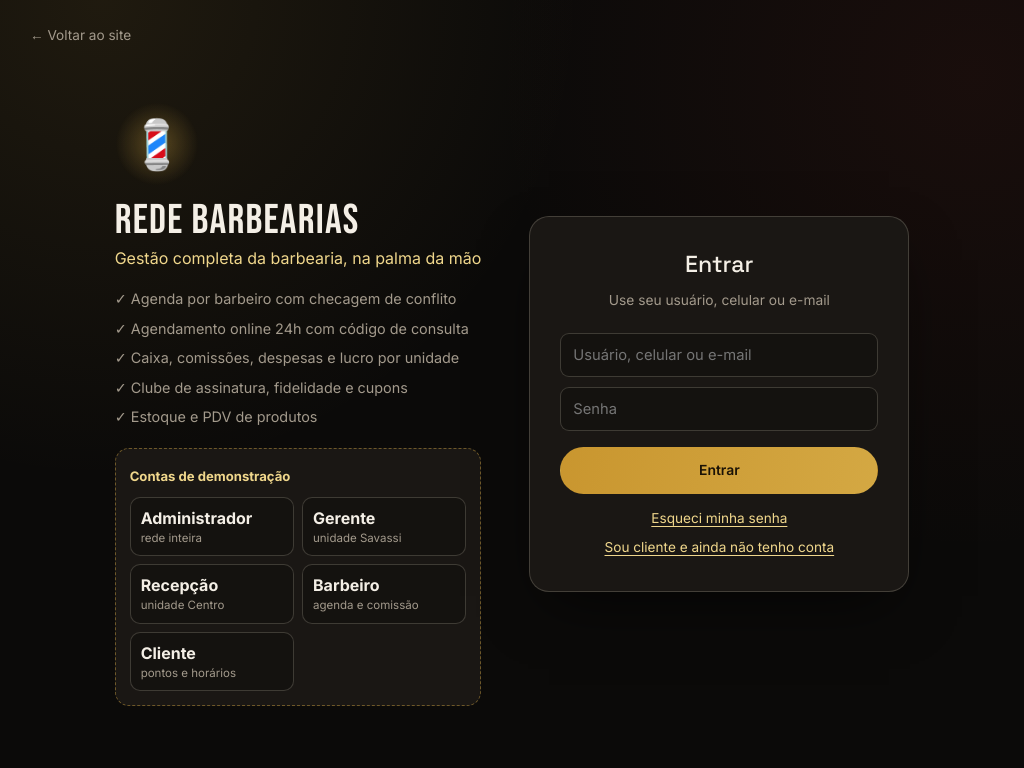
Test: Esqueci minha senha › senhas diferentes não chegam no servidor
The width and height of the screenshot is (1024, 768).
Click the button "Esqueci minha senha": (719,518) x1=651 y1=508 x2=787 y2=529
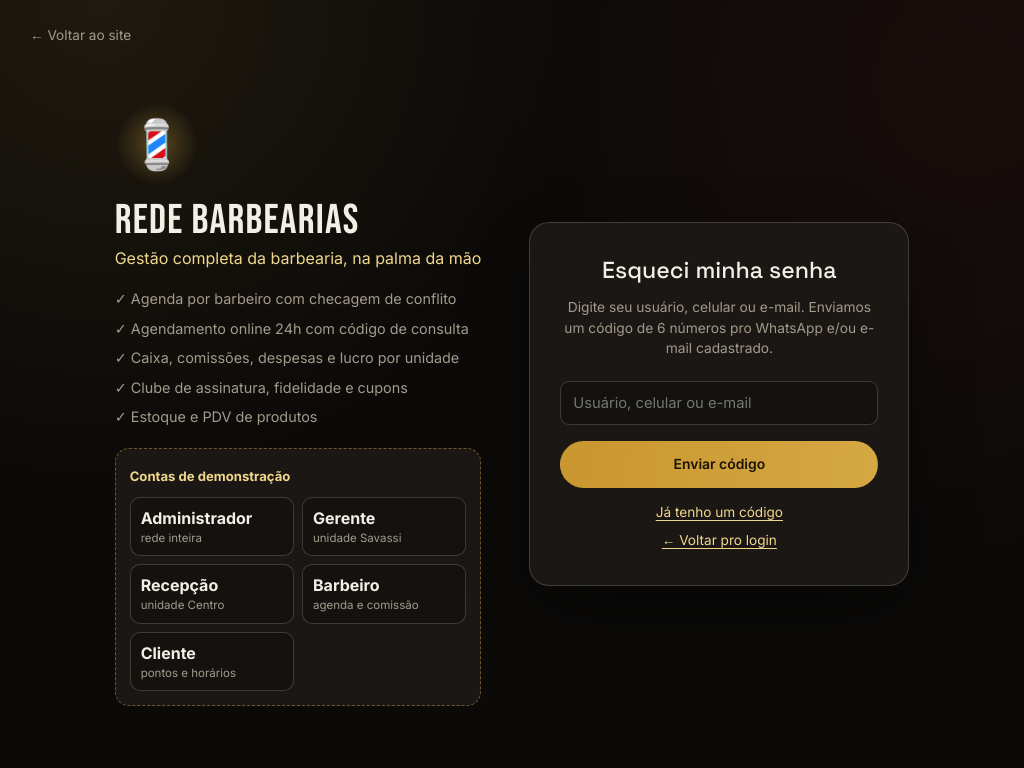
Click the button "Já tenho um código": (719,512) x1=656 y1=502 x2=783 y2=522
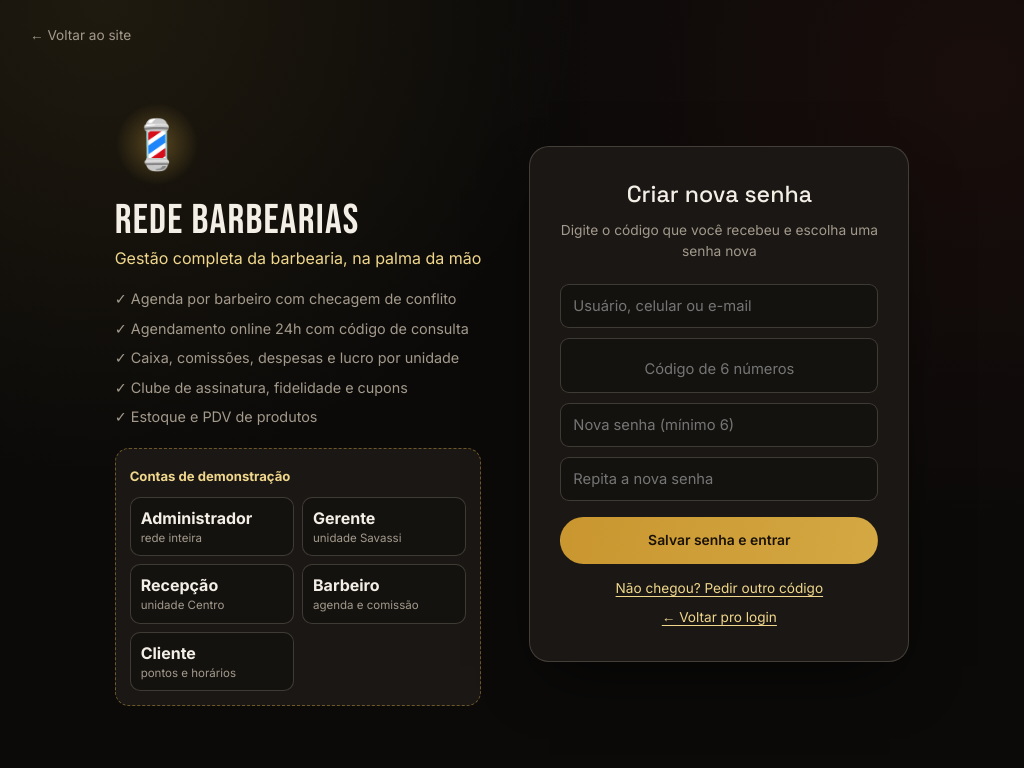
In the field with placeholder "Usuário, celular ou e-mail": (719,306) x1=560 y1=284 x2=878 y2=328, type "rita"
In the field with placeholder "Código de 6 números": (719,366) x1=560 y1=338 x2=878 y2=393, type "123456"
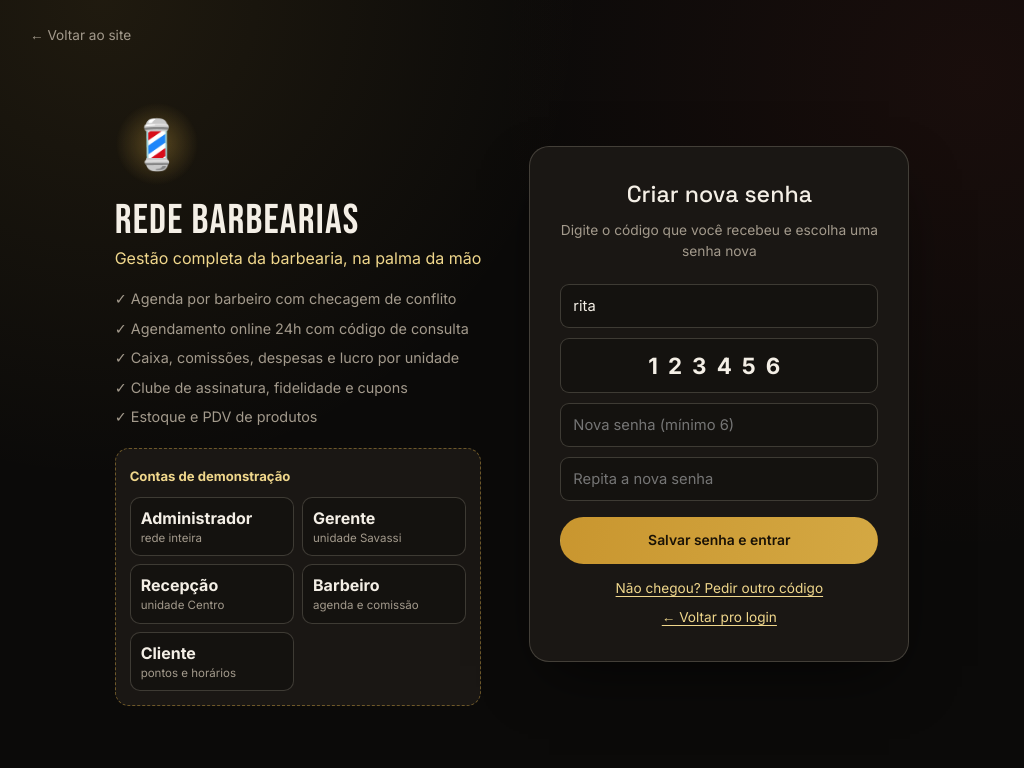
In the password field with placeholder "Nova senha (mínimo 6)": (719,425) x1=560 y1=403 x2=878 y2=447, type "nova123"
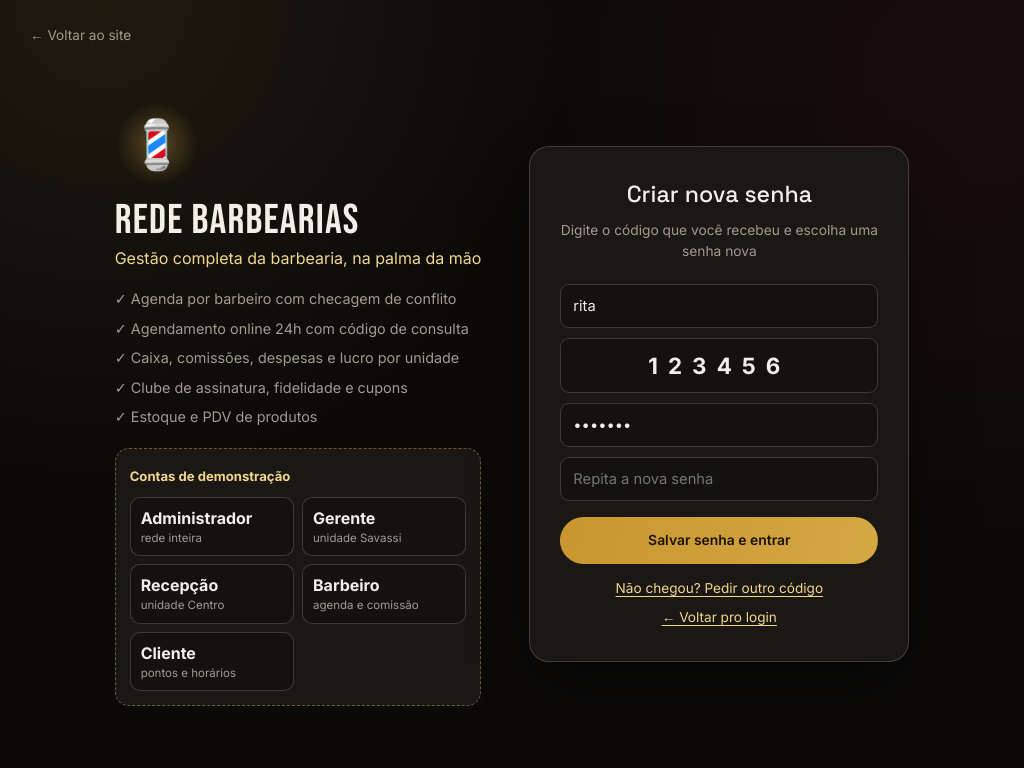
In the password field with placeholder "Repita a nova senha": (719,479) x1=560 y1=457 x2=878 y2=502, type "outra12"
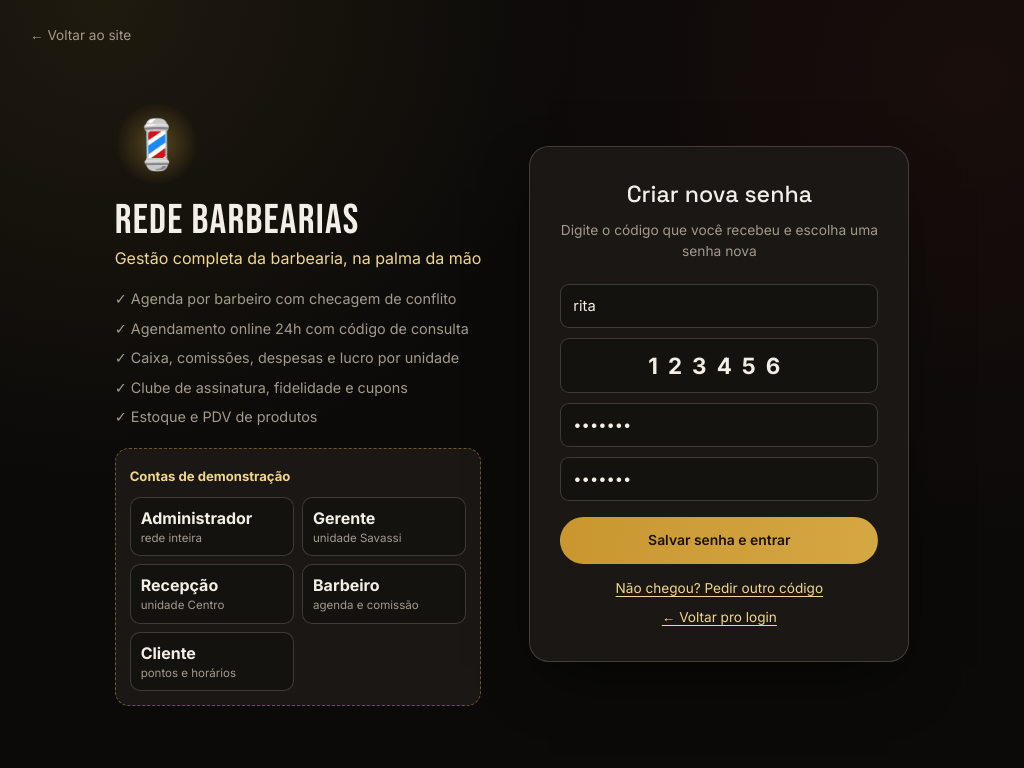
Click the button "Salvar senha e entrar": (719,541) x1=560 y1=517 x2=878 y2=564
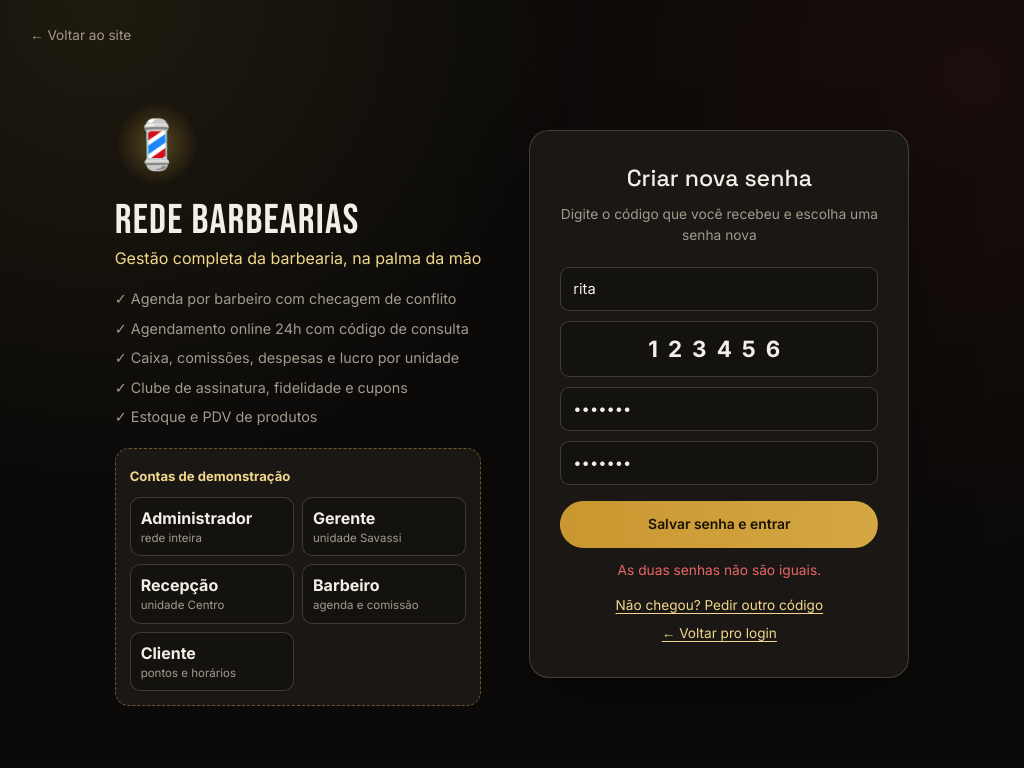
Now the message shows "não são iguais", box x1=618 y1=562 x2=821 y2=578
